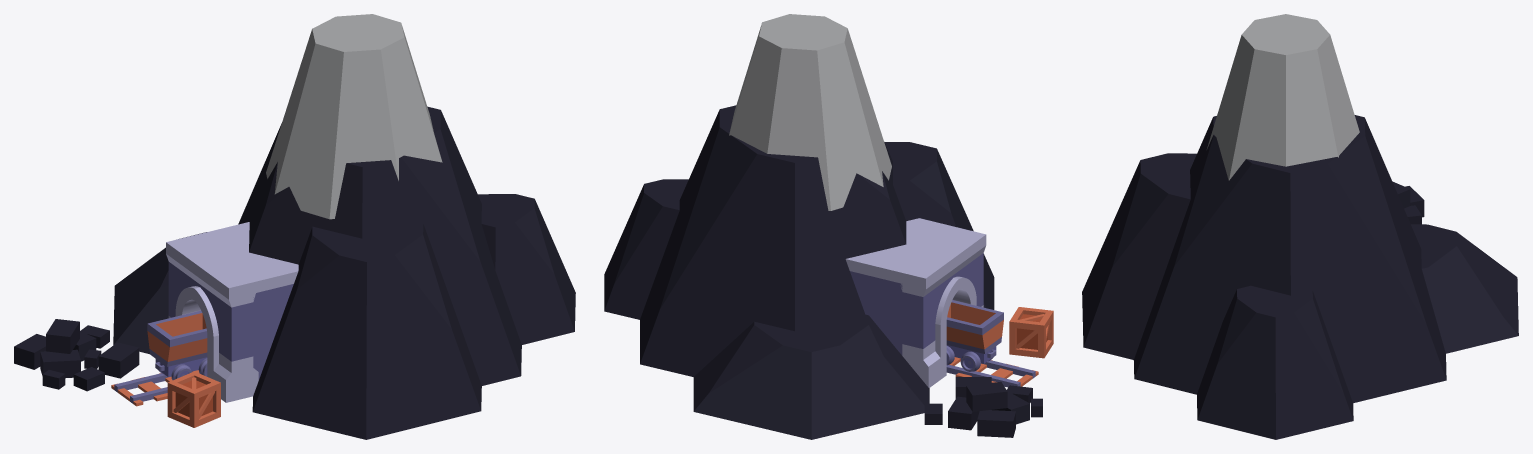
Rendered from Goldmine 1.fbx.
3 views of the same model, side by side, from view 1: azimuth 30°, elevation 25°; view 2: azimuth 150°, elevation 25°; view 3: azimuth 270°, elevation 25° (orthographic). The views are drawn at different scales.
Visible parts, largest first — view 1: mergedBlocks; view 2: mergedBlocks; view 3: mergedBlocks.
Boxes of the visible parts, x1,y1,x2,y2 form: mergedBlocks: [14, 14, 575, 439]; mergedBlocks: [604, 14, 1053, 439]; mergedBlocks: [1082, 14, 1518, 439].
Size of the model in its own units: 45.44 by 27 by 35.24.
